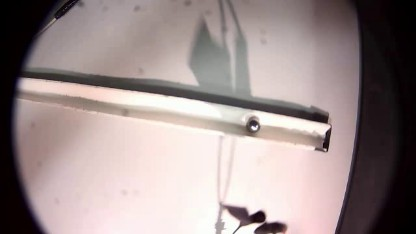gangzhu: (244, 116, 261, 133)
